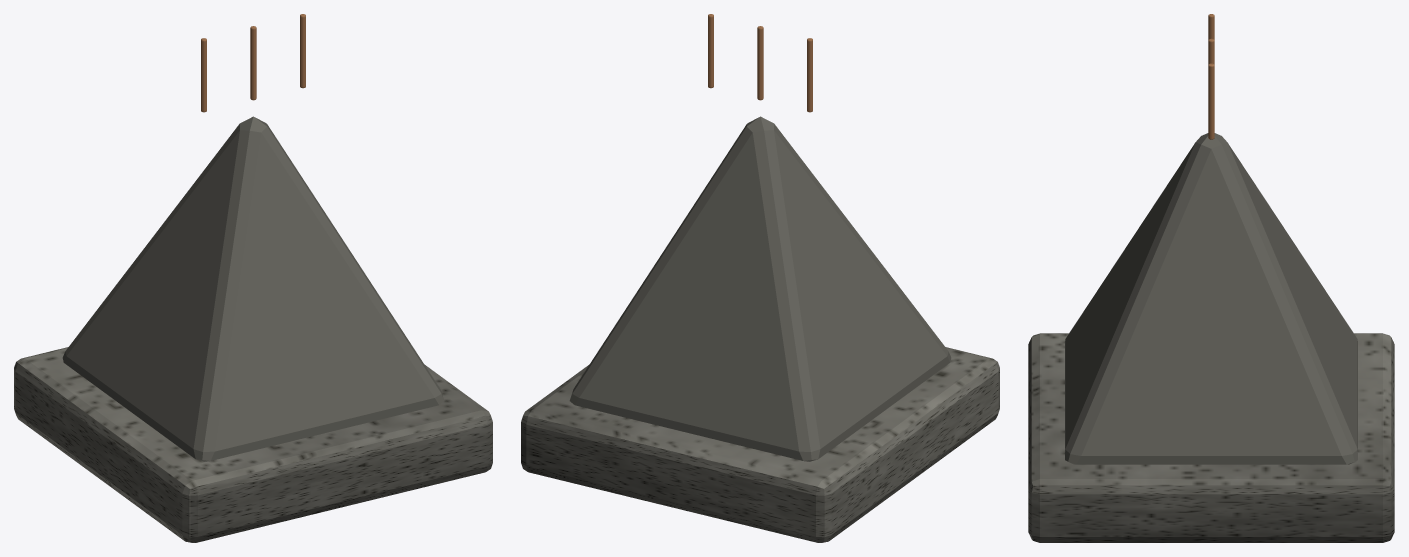
Rendered from barrier.glb.
The picture shows the model from 3 angles, left to right: view 1: azimuth 30°, elevation 25°; view 2: azimuth 150°, elevation 25°; view 3: azimuth 270°, elevation 25°; orthographic projection. The views are drawn at different scales.
Parts seen in each view (by area): view 1: Tooth, Base; view 2: Tooth, Base; view 3: Tooth, Base, RebarTip_2.
Boxes of the visible parts, left/top/right/bottom form: Tooth: left=62, top=116, right=444, bottom=461; Base: left=14, top=347, right=492, bottom=542; Tooth: left=569, top=116, right=951, bottom=461; Base: left=521, top=347, right=999, bottom=542; Tooth: left=1065, top=133, right=1357, bottom=464; Base: left=1028, top=333, right=1394, bottom=542; RebarTip_2: left=1208, top=63, right=1214, bottom=139.
Size of the model in its own units: 1.25 by 1.62 by 1.25.
2 materials, 1 textured.
